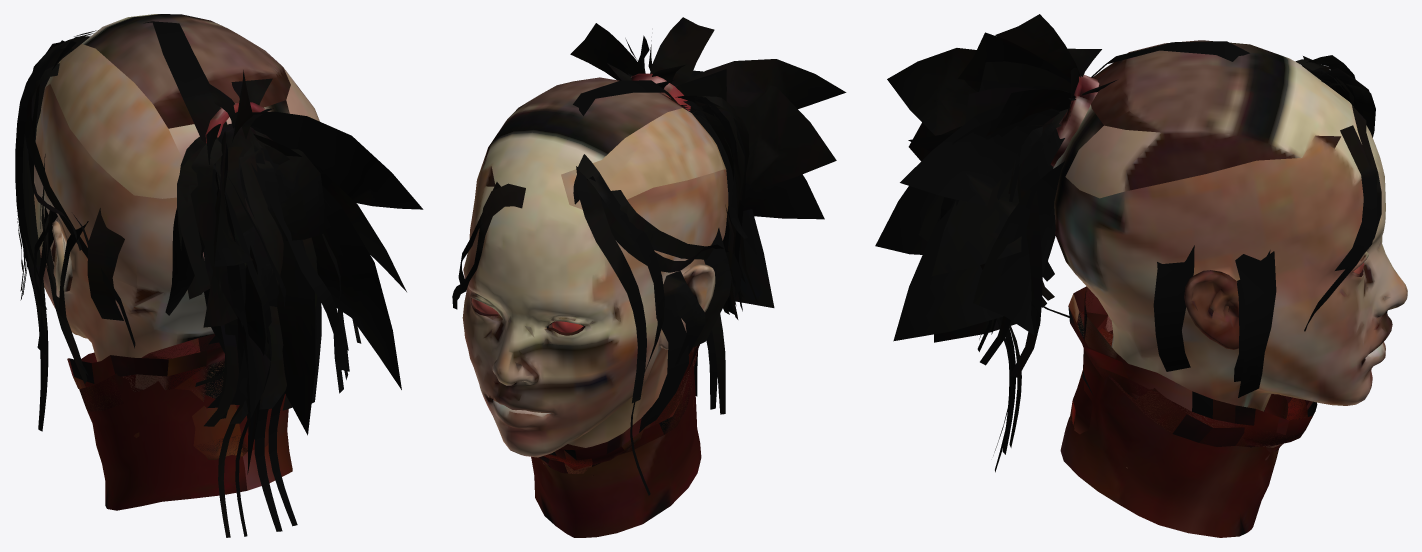
The picture shows the model from 3 angles, left to right: view 1: azimuth 30°, elevation 25°; view 2: azimuth 150°, elevation 25°; view 3: azimuth 270°, elevation 25°; orthographic projection. The views are drawn at different scales.
Visible parts, largest first — view 1: mesh_0; view 2: mesh_0; view 3: mesh_0.
Part boxes in pixels (x1,y1,x2,y2): mesh_0: (15, 14, 423, 537); mesh_0: (452, 17, 846, 537); mesh_0: (875, 14, 1407, 537).
Bounding box in the file's own units: 7 × 13.19 × 12.59.
1 material, 1 textured.
